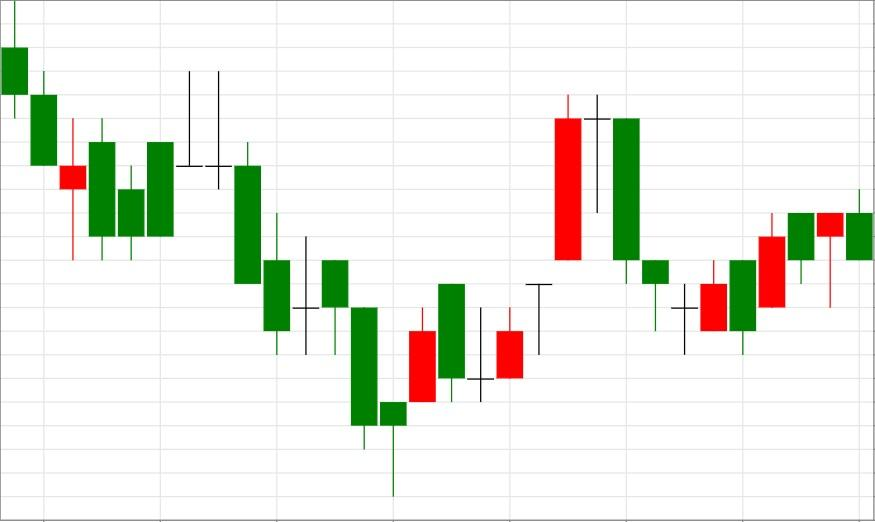evening_star_fall: (379, 93, 641, 497)
hammer_rise: (321, 260, 408, 498)
